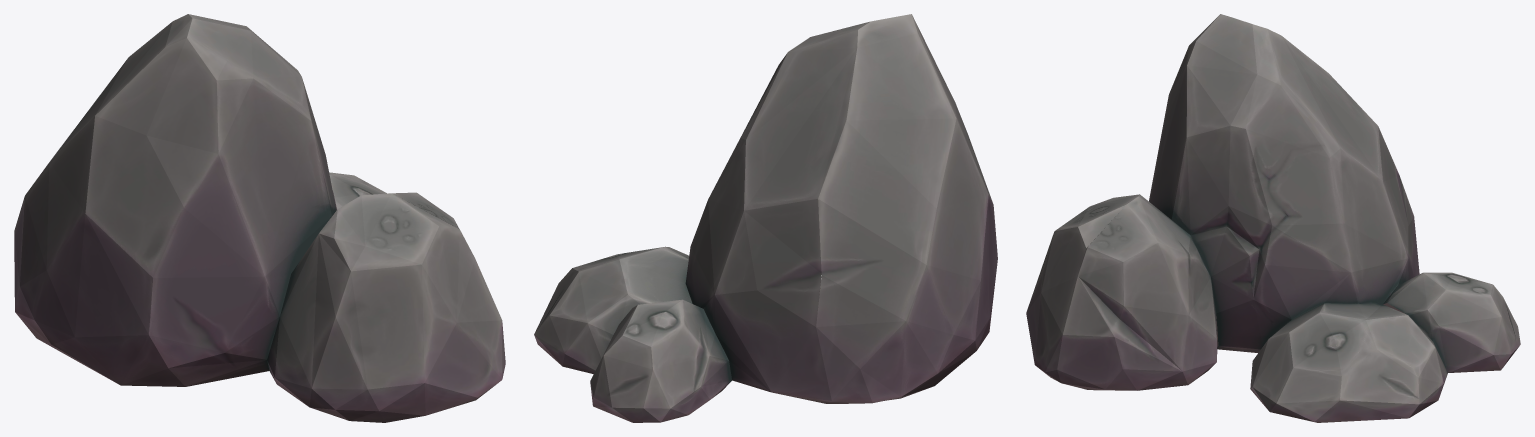
Rendered from ROK0110002.fbx.
3 renders of one model, left to right at view 1: azimuth 30°, elevation 25°; view 2: azimuth 150°, elevation 25°; view 3: azimuth 270°, elevation 25°, orthographic. The views are drawn at different scales.
Visible parts, largest first — view 1: smROK0110002; view 2: smROK0110002; view 3: smROK0110002.
Part boxes in pixels (<box>): smROK0110002: <box>14,14,505,422</box>; smROK0110002: <box>534,14,997,422</box>; smROK0110002: <box>1026,14,1520,422</box>.
Bounding box in the file's own units: 132 × 104 × 160.
1 material, 1 textured.
